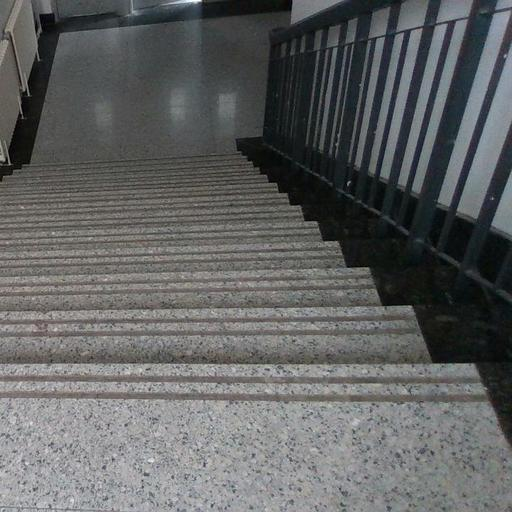stairs: (0, 154, 511, 511), (0, 154, 429, 363)
